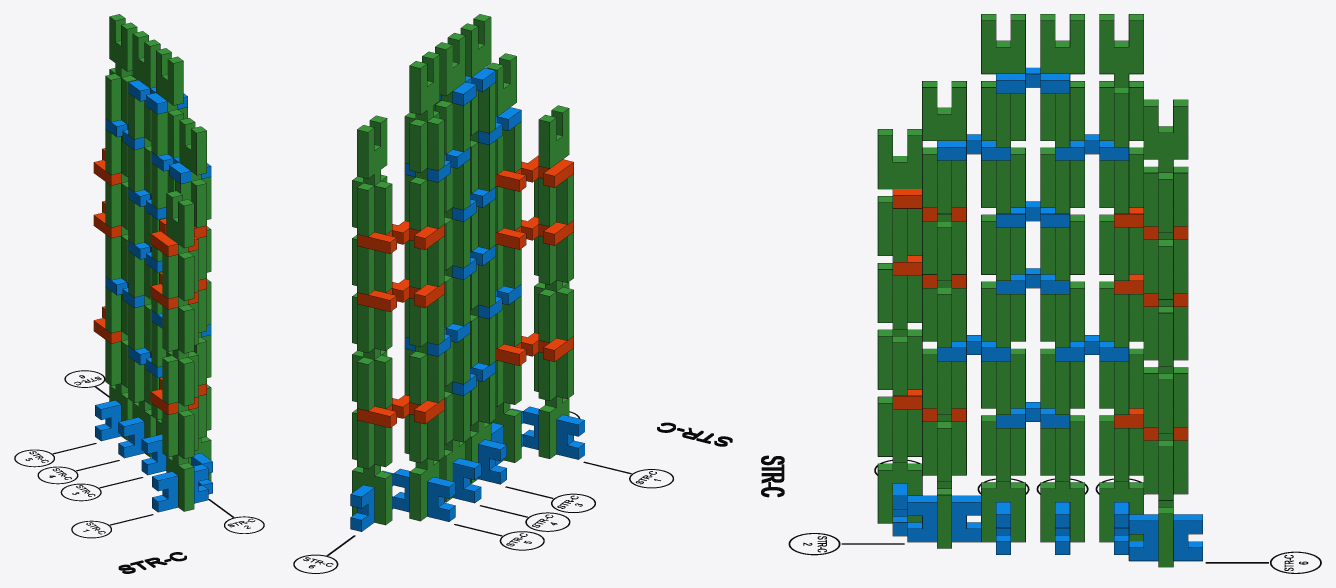
3 views of the same model, side by side, from view 1: azimuth 30°, elevation 25°; view 2: azimuth 150°, elevation 25°; view 3: azimuth 270°, elevation 25° (orthographic). The views are drawn at different scales.
Parts seen in each view (by area): view 1: H_SIM (×29), X_SIM (×12), L_SIM (×6); view 2: H_SIM (×38), X_SIM (×13), L_SIM (×6); view 3: H_SIM (×38), X_SIM (×14), L_SIM (×6).
Boxes of the visible parts, x1,y1,x2,y2 form: H_SIM (×29): (105, 14, 210, 511); X_SIM (×12): (95, 80, 212, 511); L_SIM (×6): (93, 148, 206, 414); H_SIM (×38): (352, 14, 573, 524); X_SIM (×13): (350, 68, 584, 531); L_SIM (×6): (357, 156, 573, 427); H_SIM (×38): (878, 14, 1187, 566); X_SIM (×14): (893, 67, 1202, 560); L_SIM (×6): (893, 189, 1187, 440).
Bounding box in the file's own units: 2.43 × 5.12 × 4.94.
